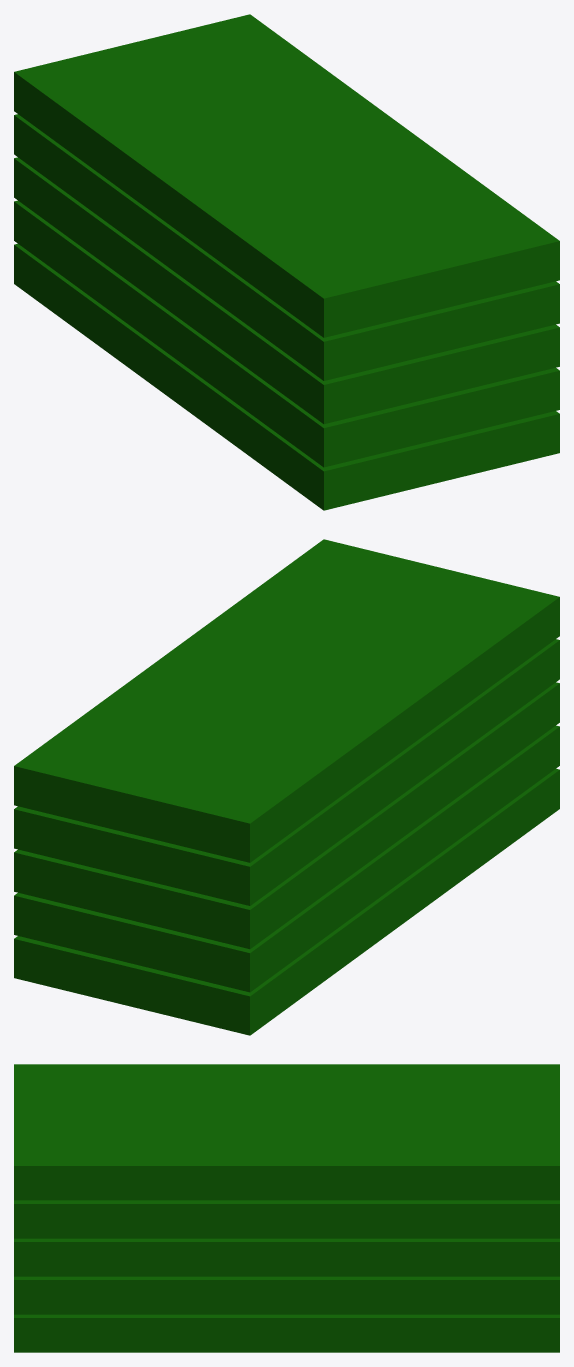
The model's file is Money_TFSGJ_Spring2025.fbx.
The picture shows the model from 3 angles, top to bottom: view 1: azimuth 30°, elevation 25°; view 2: azimuth 150°, elevation 25°; view 3: azimuth 270°, elevation 25°; orthographic projection. The views are drawn at different scales.
Parts seen in each view (by area): view 1: Cube.004; view 2: Cube.004; view 3: Cube.004.
Boxes of the visible parts, x1,y1,x2,y2 form: Cube.004: (14, 14, 559, 510); Cube.004: (14, 539, 559, 1035); Cube.004: (14, 1064, 559, 1352).
Bounding box in the file's own units: 7.73 × 6.64 × 17.57.
